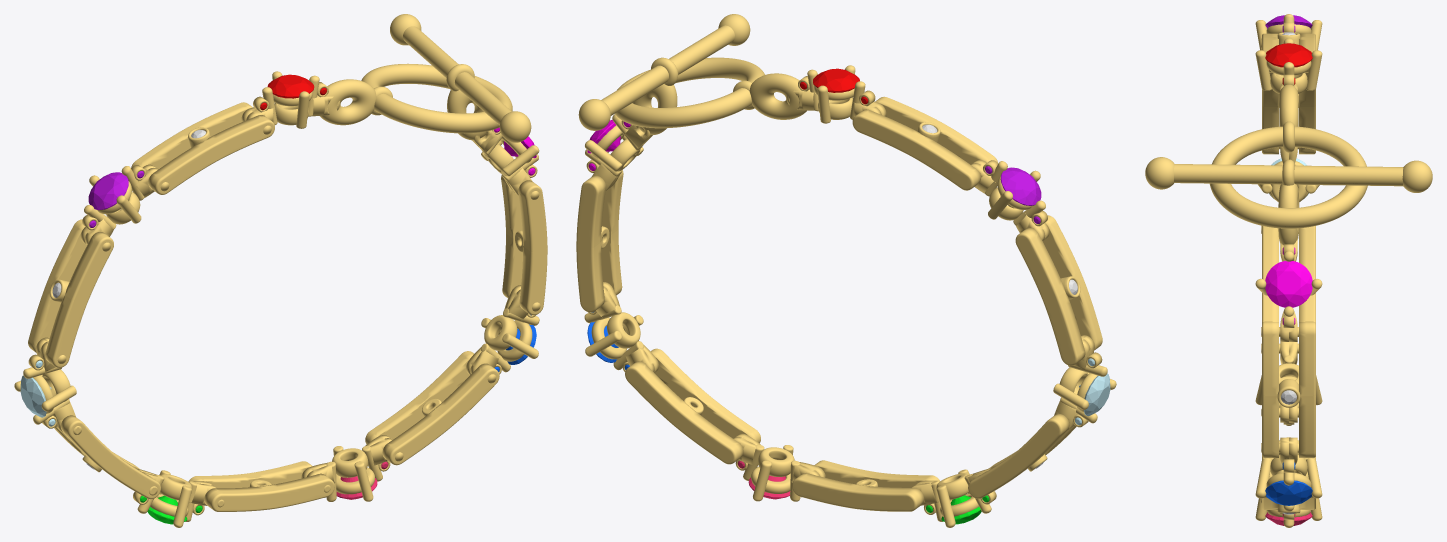
The model's file is DeanYGBirthstonebracelet.glb.
3 views of the same model, side by side, from view 1: azimuth 30°, elevation 25°; view 2: azimuth 150°, elevation 25°; view 3: azimuth 270°, elevation 25° (orthographic). The views are drawn at different scales.
Parts seen in each view (by area): view 1: Dean YG for 3d model, Dean amethyst for 3d model.002, Dean pyrope garnet for 3d model, Dean aquamarine for 3d model.002; view 2: Dean YG for 3d model, Dean amethyst for 3d model.002, Dean pyrope garnet for 3d model, Dean aquamarine for 3d model.002; view 3: Dean YG for 3d model, Dean pink sapphire for 3d model.002, Dean sapphire for 3d model.002, Dean pyrope garnet for 3d model.
Boxes of the visible parts, x1=… form: Dean YG for 3d model: x1=14, y1=14, x2=547, y2=527; Dean amethyst for 3d model.002: x1=88, y1=172, x2=128, y2=210; Dean pyrope garnet for 3d model: x1=260, y1=74, x2=326, y2=110; Dean aquamarine for 3d model.002: x1=20, y1=375, x2=51, y2=417; Dean YG for 3d model: x1=576, y1=14, x2=1116, y2=527; Dean amethyst for 3d model.002: x1=1000, y1=167, x2=1041, y2=205; Dean pyrope garnet for 3d model: x1=800, y1=68, x2=868, y2=104; Dean aquamarine for 3d model.002: x1=1079, y1=373, x2=1110, y2=416; Dean YG for 3d model: x1=1145, y1=14, x2=1432, y2=527; Dean pink sapphire for 3d model.002: x1=1265, y1=261, x2=1312, y2=307; Dean sapphire for 3d model.002: x1=1265, y1=480, x2=1312, y2=505; Dean pyrope garnet for 3d model: x1=1265, y1=43, x2=1312, y2=84.
Bounding box in the file's own units: 76.74 × 61.35 × 35.95.
